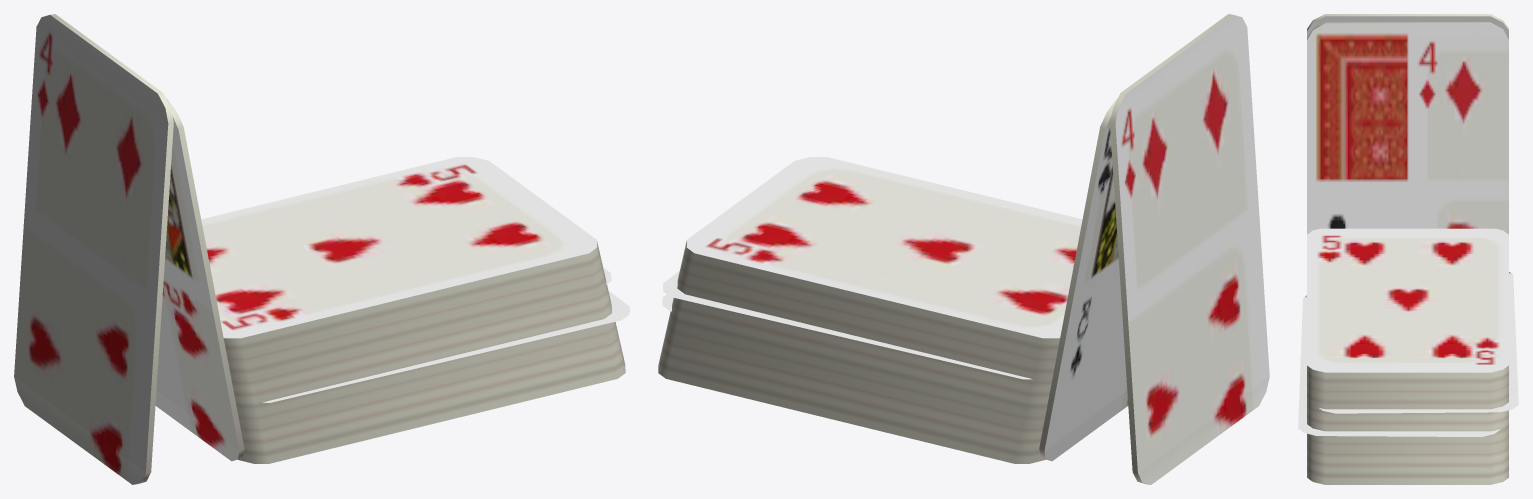
Rendered from rmk_trp_bedS.dae.
3 renders of one model, left to right at view 1: azimuth 30°, elevation 25°; view 2: azimuth 150°, elevation 25°; view 3: azimuth 270°, elevation 25°, orthographic. The views are drawn at different scales.
Visible parts, largest first — view 1: rmk_trp_bedS; view 2: rmk_trp_bedS; view 3: rmk_trp_bedS.
Boxes of the visible parts, x1,y1,x2,y2 form: rmk_trp_bedS: (14, 14, 629, 484); rmk_trp_bedS: (658, 14, 1269, 484); rmk_trp_bedS: (1298, 14, 1518, 484).
Bounding box in the file's own units: 62.49 × 46.59 × 31.49.
Materials: 1 (1 with a texture image).
